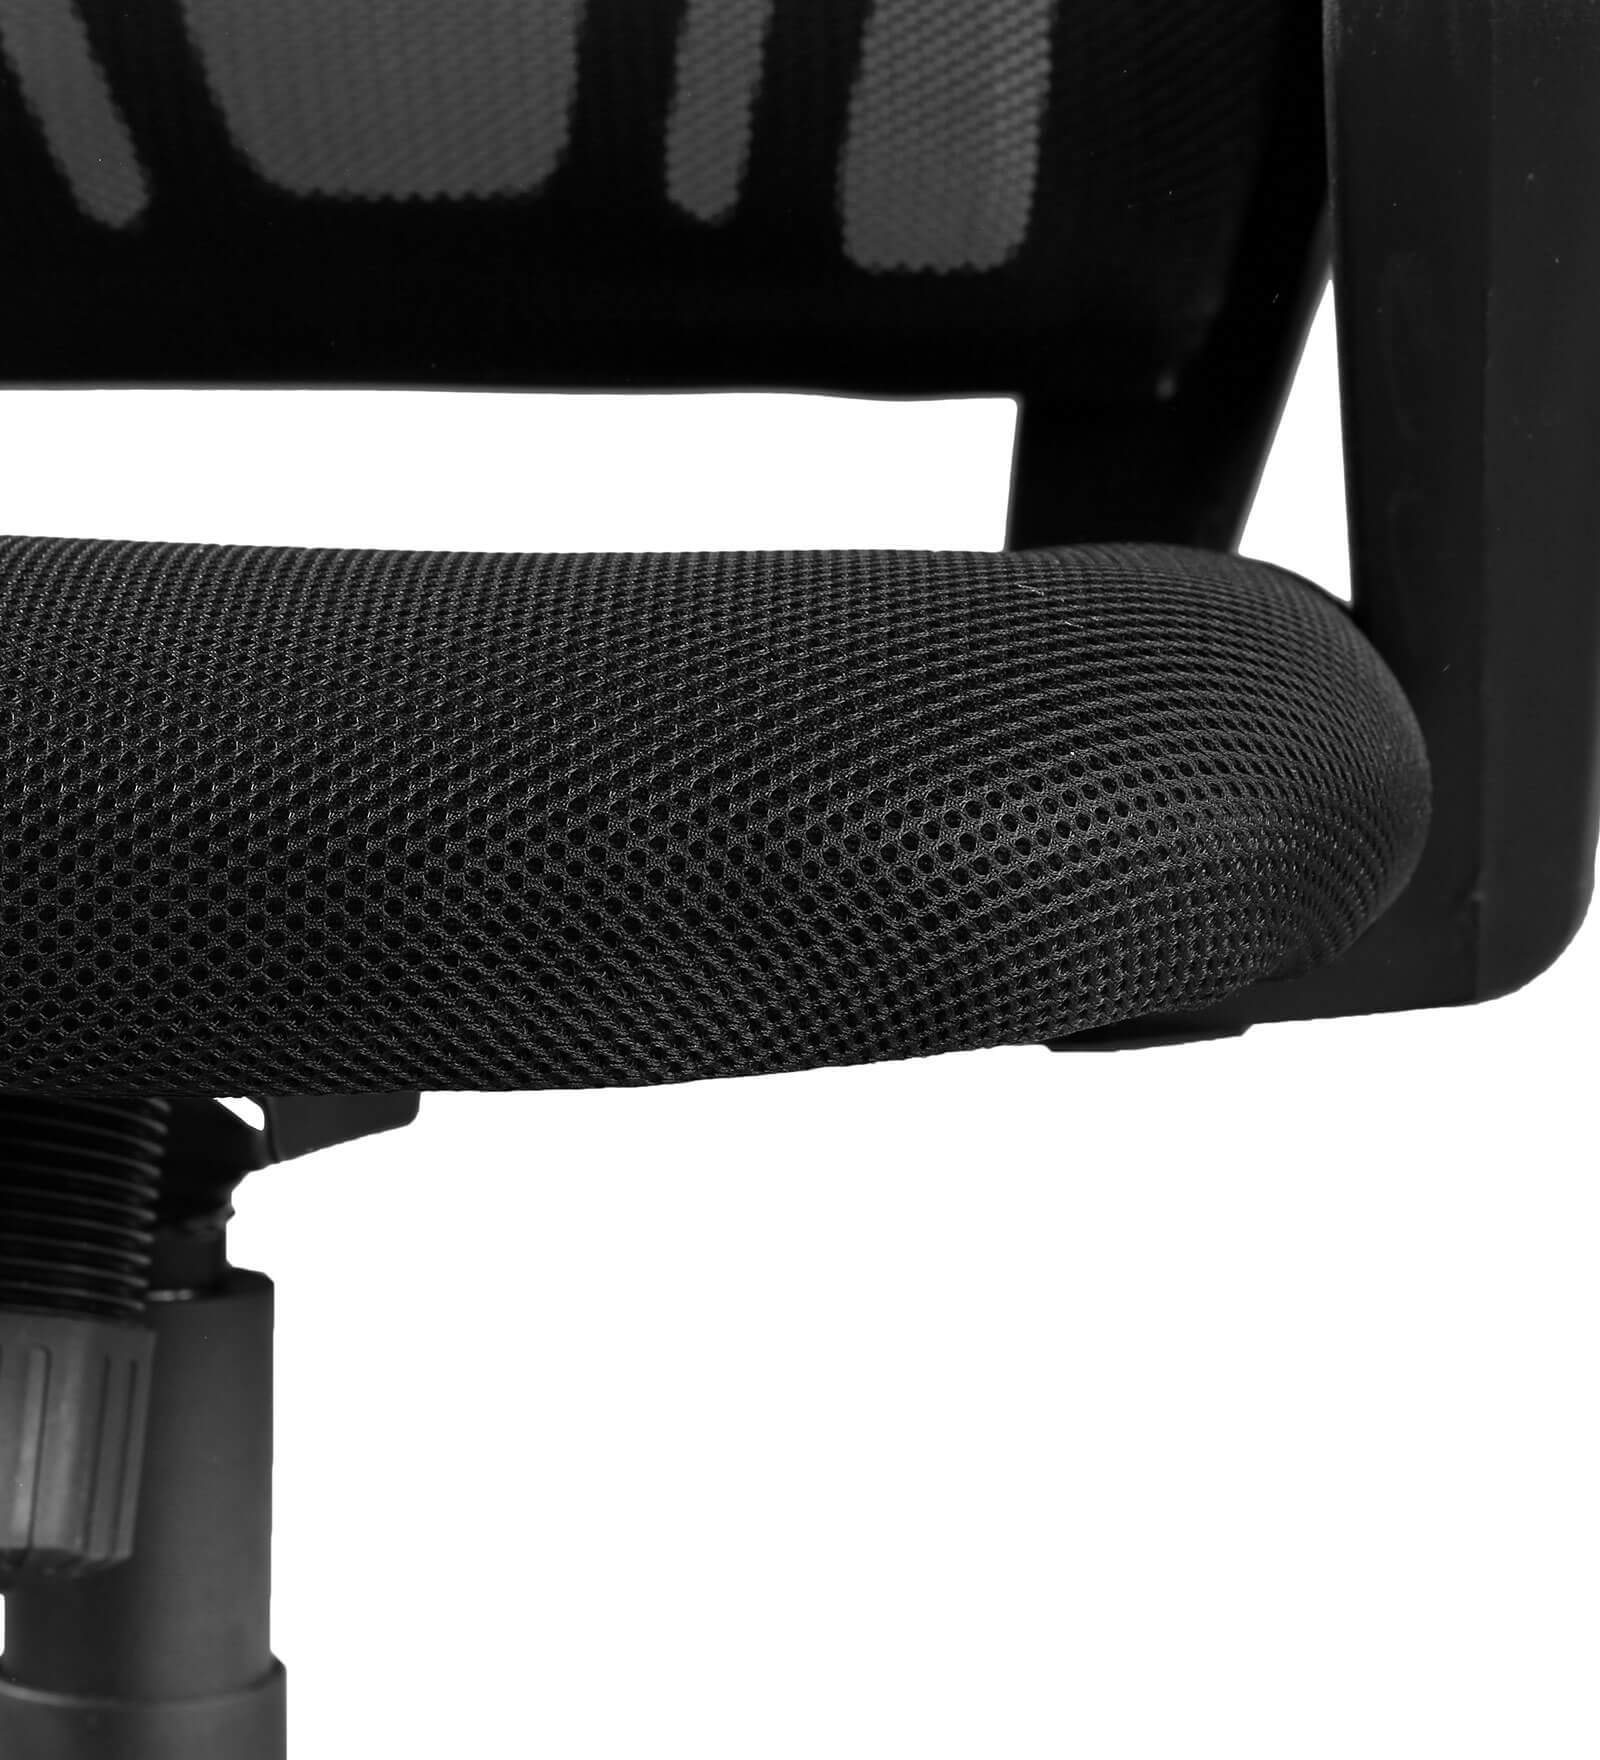Regus Low Back Mesh Chair in Green Colour by Hometown: (17, 179, 1600, 1668)
